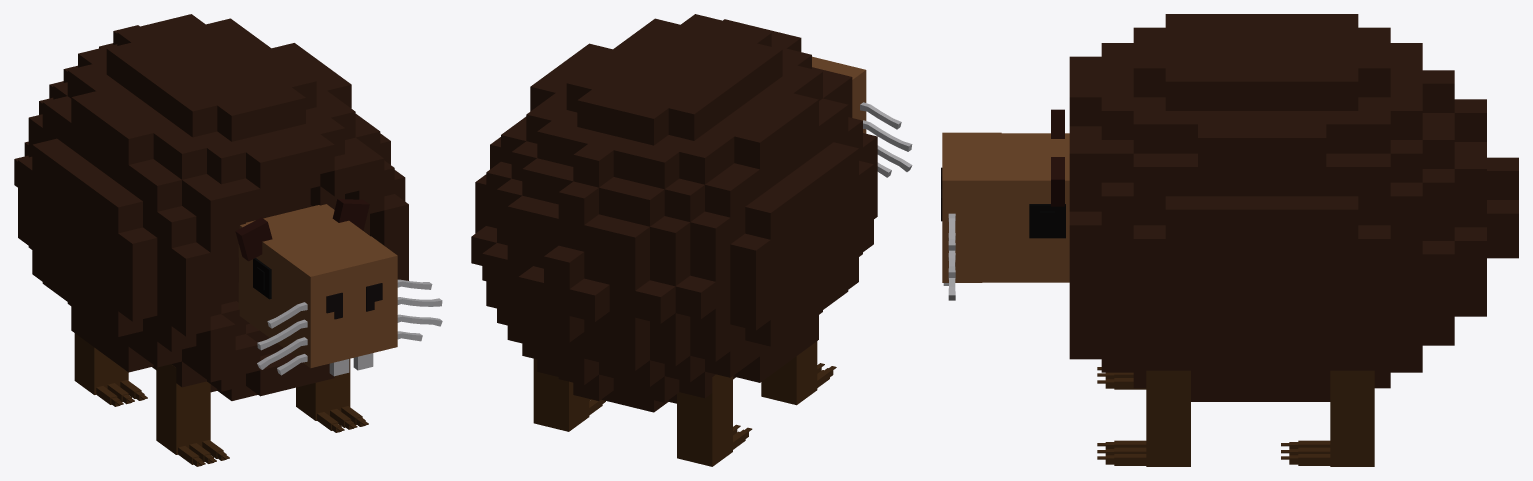
File: Burbaloni_Loliloli.fbx
3 views of the same model, side by side, from view 1: azimuth 30°, elevation 25°; view 2: azimuth 150°, elevation 25°; view 3: azimuth 270°, elevation 25° (orthographic). The views are drawn at different scales.
Parts seen in each view (by area): view 1: Burbaloni_Loliloli, right_leg_1, right_leg_2.001, left_leg_1.001, ear_2, ear_1; view 2: Burbaloni_Loliloli, right_leg_2.001, left_leg_2.002, right_leg_1; view 3: Burbaloni_Loliloli, left_leg_1.001, left_leg_2.002, ear_1, right_leg_1.
Boxes of the visible parts, x1,y1,x2,y2 form: Burbaloni_Loliloli: (14, 14, 442, 400); right_leg_1: (156, 364, 229, 466); right_leg_2.001: (74, 333, 147, 406); left_leg_1.001: (296, 358, 368, 432); ear_2: (235, 217, 272, 261); ear_1: (332, 199, 369, 230); Burbaloni_Loliloli: (471, 14, 912, 412); right_leg_2.001: (677, 374, 752, 466); left_leg_2.002: (533, 358, 605, 431); right_leg_1: (761, 341, 836, 405); Burbaloni_Loliloli: (941, 14, 1518, 401); left_leg_1.001: (1097, 370, 1190, 466); left_leg_2.002: (1281, 370, 1374, 466); ear_1: (1051, 157, 1064, 206); right_leg_1: (1097, 367, 1146, 389).
Bounding box in the file's own units: 506 × 587 × 828.
